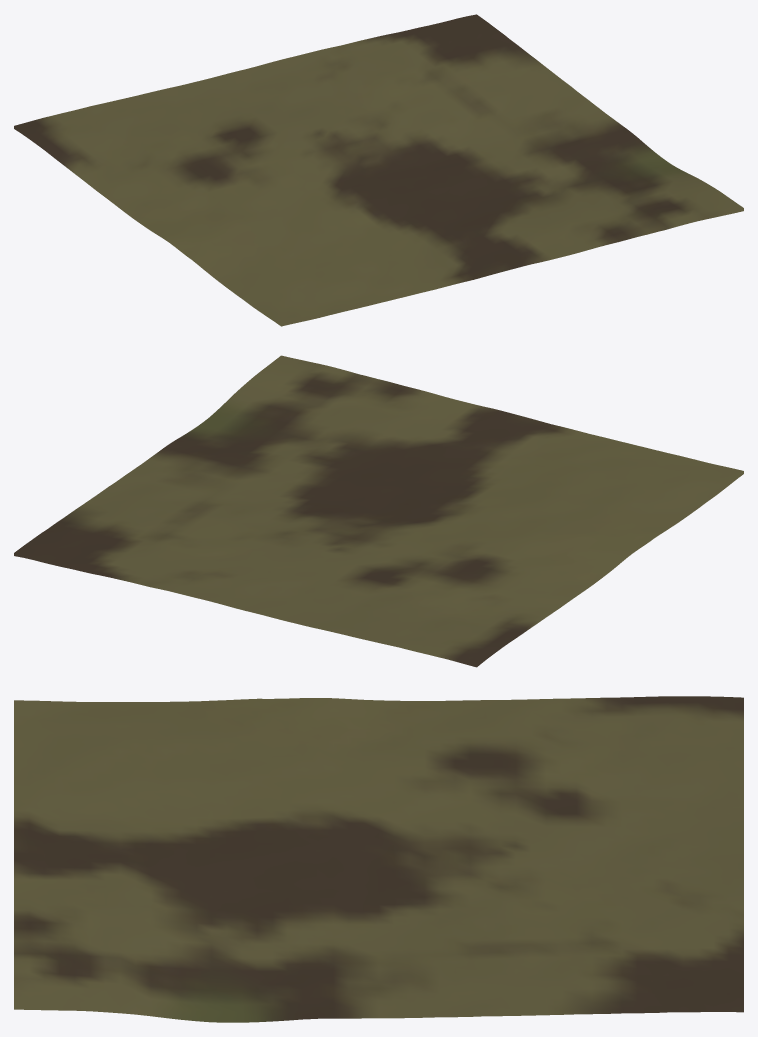
The model's file is land_m_04_05.glb.
The picture shows the model from 3 angles, top to bottom: view 1: azimuth 30°, elevation 25°; view 2: azimuth 150°, elevation 25°; view 3: azimuth 270°, elevation 25°; orthographic projection. The views are drawn at different scales.
Visible parts, largest first — view 1: land_m_04_05; view 2: land_m_04_05; view 3: land_m_04_05.
Boxes of the visible parts, x1,y1,x2,y2 form: land_m_04_05: (14, 14, 743, 326); land_m_04_05: (14, 355, 743, 667); land_m_04_05: (14, 696, 743, 1022).
Size of the model in its own units: 960 by 27.16 by 960.
